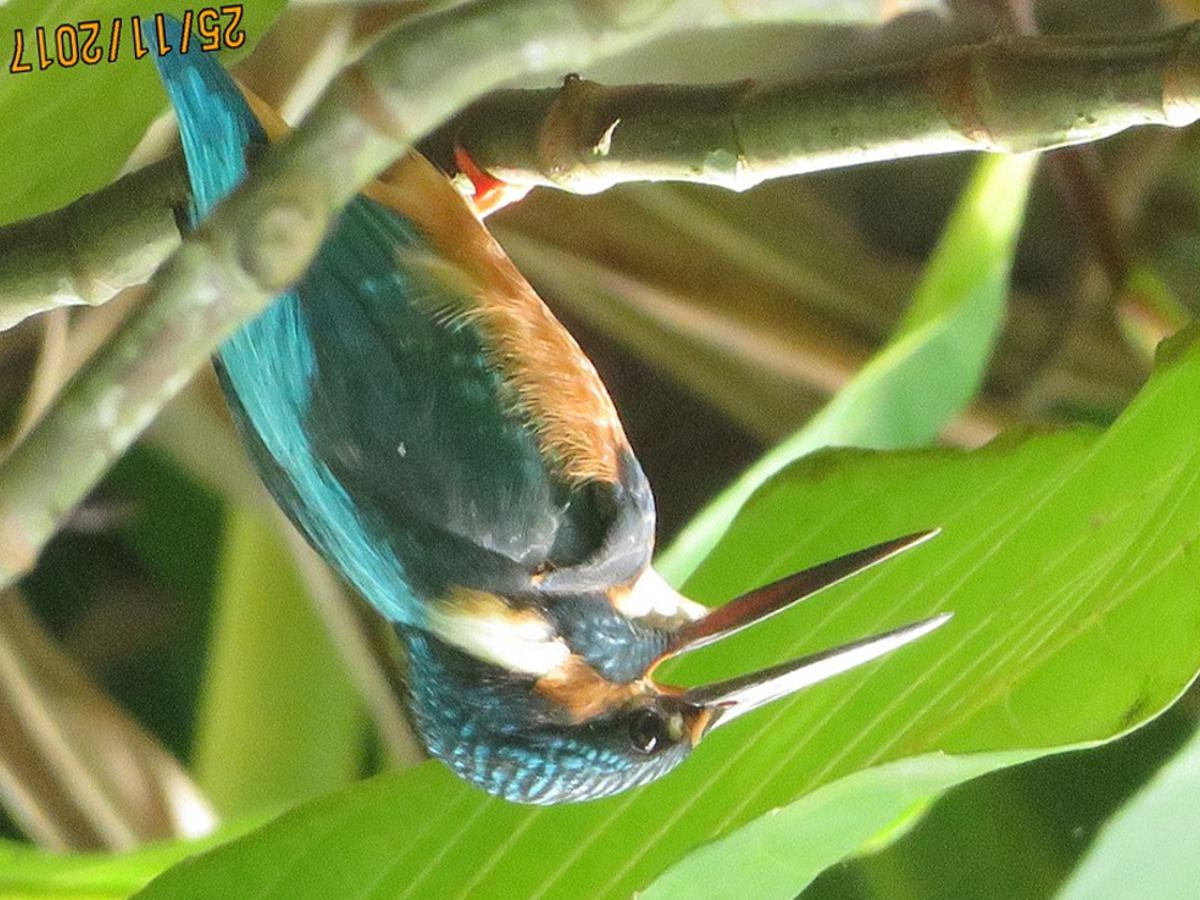kingfisher: (116, 37, 969, 808)
